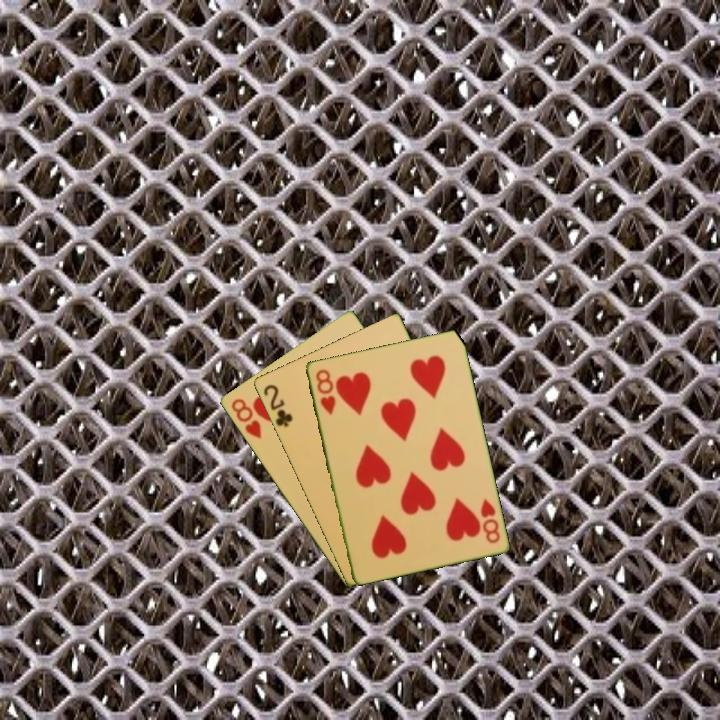2c: (260, 380, 295, 430)
8h: (227, 395, 264, 442), (312, 365, 338, 418), (476, 495, 503, 546)
